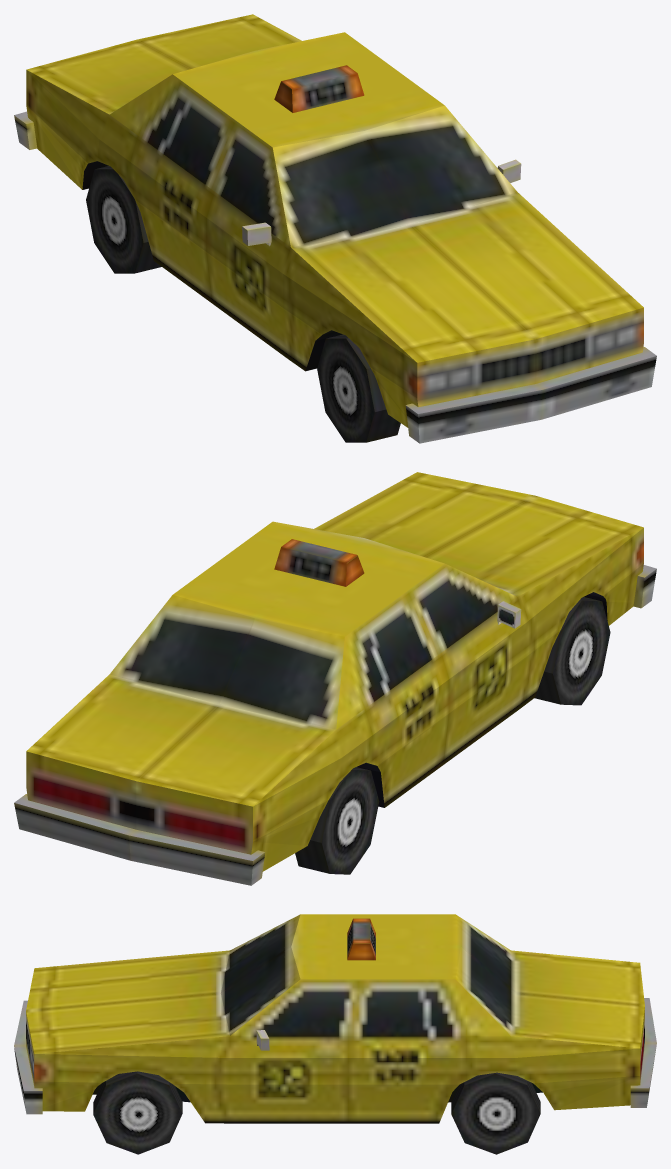
File: vehicle.taxi.glb
3 views of the same model, one above another, from view 1: azimuth 30°, elevation 25°; view 2: azimuth 150°, elevation 25°; view 3: azimuth 270°, elevation 25° (orthographic). The views are drawn at different scales.
Visible parts, largest first — view 1: Car5_Taxi; view 2: Car5_Taxi; view 3: Car5_Taxi.
Boxes of the visible parts, bbox=[...] form: Car5_Taxi: bbox=[14, 14, 656, 443]; Car5_Taxi: bbox=[14, 472, 656, 885]; Car5_Taxi: bbox=[14, 914, 656, 1154].
Bounding box in the file's own units: 2.02 × 1.63 × 5.3.
1 material, 1 textured.
